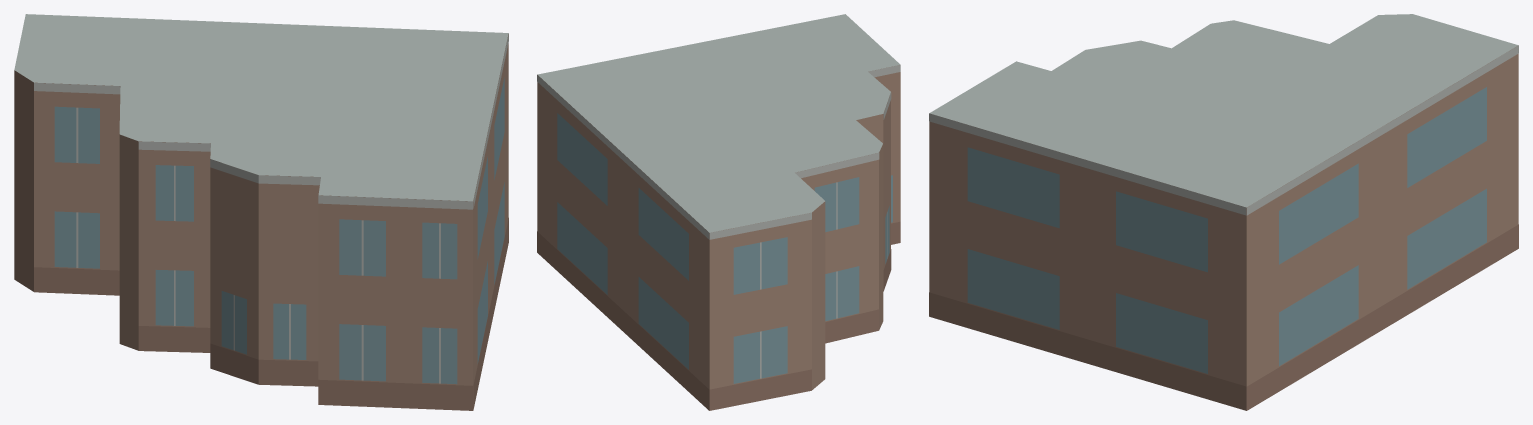
Rendered from survey-upis-32631971.glb.
3 views of the same model, side by side, from view 1: azimuth 30°, elevation 25°; view 2: azimuth 150°, elevation 25°; view 3: azimuth 270°, elevation 25° (orthographic). The views are drawn at different scales.
Parts seen in each view (by area): view 1: survey-upis-32631971.tmp; view 2: survey-upis-32631971.tmp; view 3: survey-upis-32631971.tmp.
Boxes of the visible parts, bbox=[...] form: survey-upis-32631971.tmp: bbox=[14, 14, 508, 410]; survey-upis-32631971.tmp: bbox=[537, 14, 900, 410]; survey-upis-32631971.tmp: bbox=[929, 14, 1518, 410].
Bounding box in the file's own units: 12.46 × 6.1 × 16.04.
